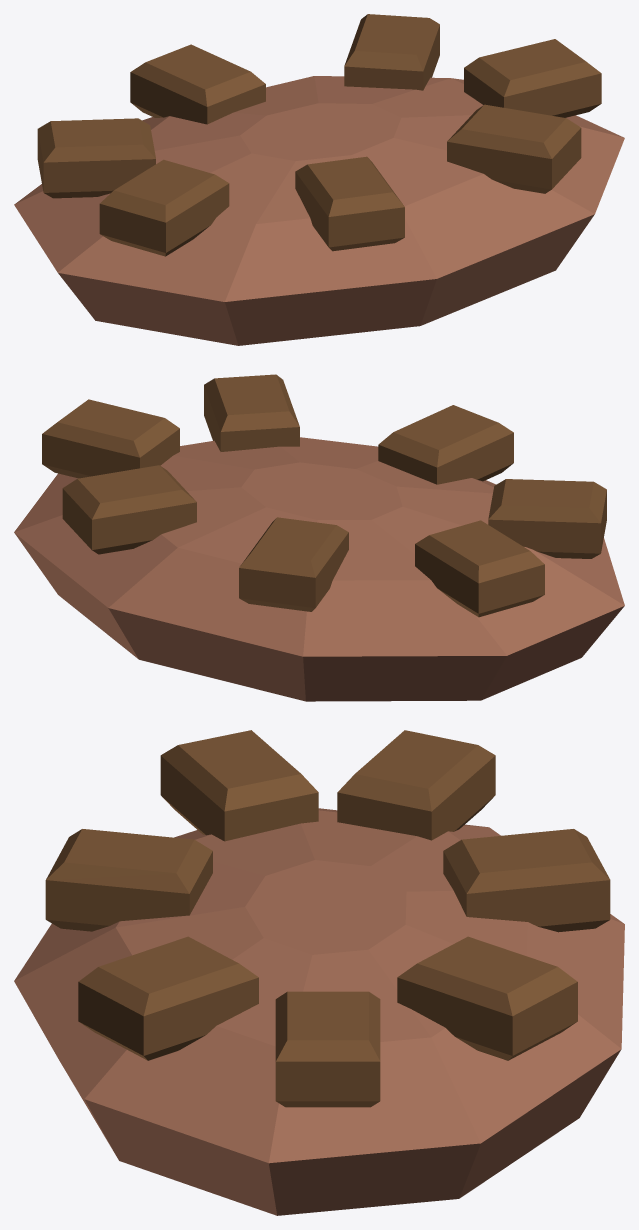
File: scoop_b.obj
The picture shows the model from 3 angles, top to bottom: view 1: azimuth 30°, elevation 25°; view 2: azimuth 150°, elevation 25°; view 3: azimuth 270°, elevation 25°; orthographic projection. The views are drawn at different scales.
Parts seen in each view (by area): view 1: scoop_b; view 2: scoop_b; view 3: scoop_b.
Part boxes in pixels (x1=…): scoop_b: x1=14, y1=14, x2=624, y2=345; scoop_b: x1=14, y1=374, x2=624, y2=701; scoop_b: x1=14, y1=730, x2=624, y2=1215.
Bounding box in the file's own units: 0.3171 × 0.0914 × 0.2277.
